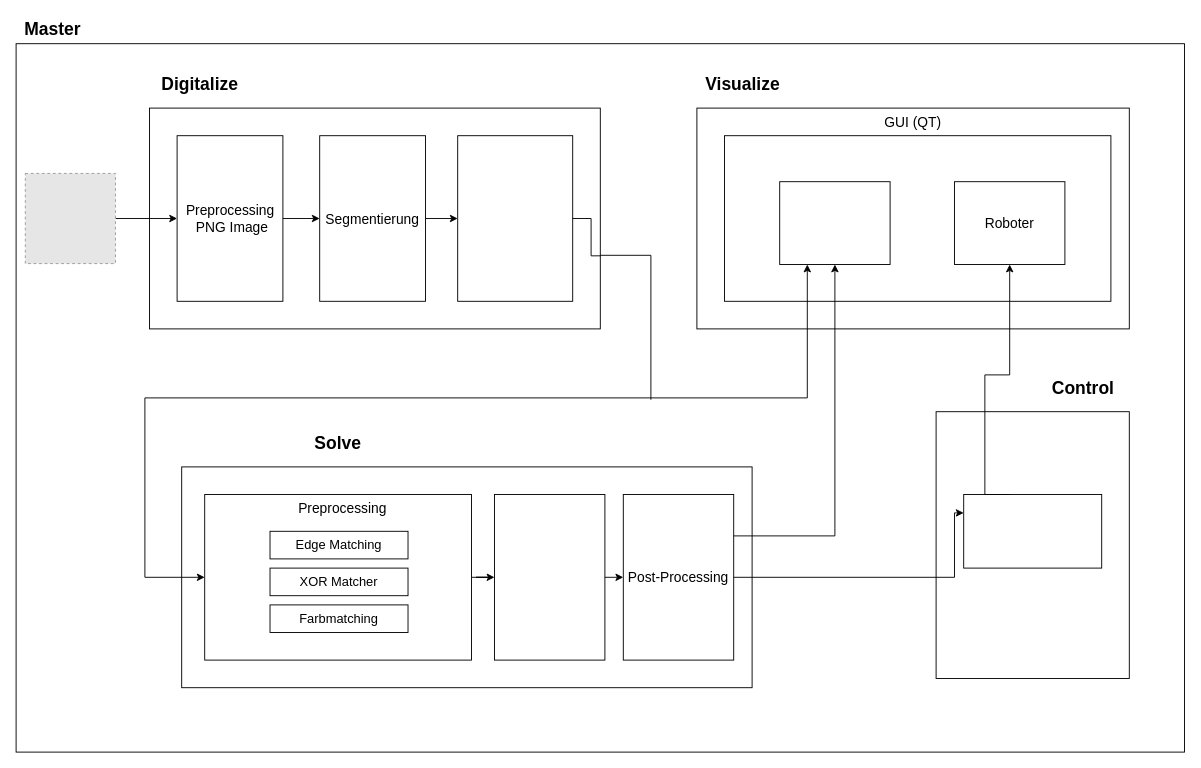
Image size: 1201x768. Some labels were removed from this diagram. Grey dashed boxes stand in for pictures. Each missing label, with the box of its shape:
Motion Control Node (Bewegung): (963, 494, 1102, 568)
Post-Processing / Outputerzeugung: (457, 135, 573, 301)
Puzzle: (779, 181, 890, 264)
Solver Algorithmus: (494, 494, 605, 660)
